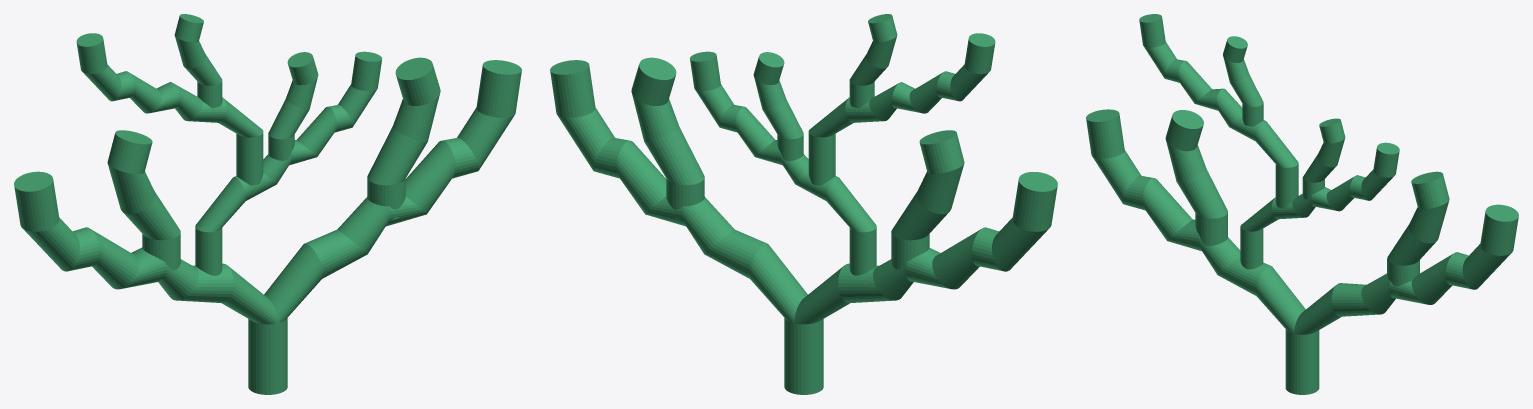
3 renders of one model, left to right at view 1: azimuth 30°, elevation 25°; view 2: azimuth 150°, elevation 25°; view 3: azimuth 330°, elevation 25°, orthographic. The views are drawn at different scales.
Parts seen in each view (by area): view 1: Cylinder.004; view 2: Cylinder.004; view 3: Cylinder.004.
Boxes of the visible parts, x1,y1,x2,y2 form: Cylinder.004: (14, 14, 521, 394); Cylinder.004: (550, 14, 1057, 394); Cylinder.004: (1086, 14, 1518, 394).
Bounding box in the file's own units: 1.36 × 1.01 × 0.0927.
